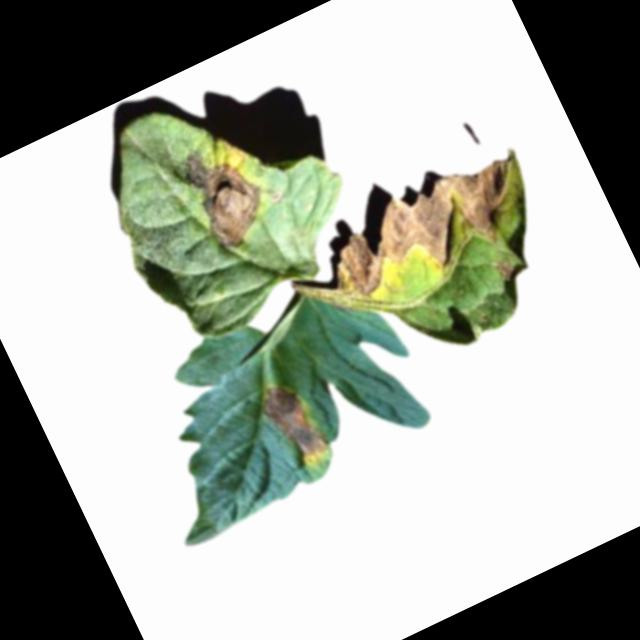Early_blight: (313, 143, 549, 318), (168, 131, 281, 259), (254, 373, 337, 476), (491, 255, 521, 285)
